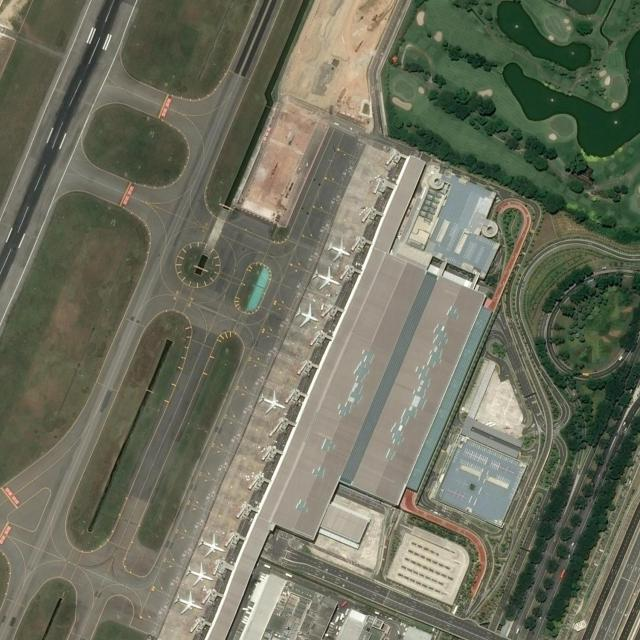Aircraft: (174, 591, 204, 616), (185, 563, 215, 588), (259, 390, 287, 416), (258, 390, 286, 415), (199, 534, 227, 559), (313, 267, 342, 291), (177, 591, 203, 615), (188, 563, 214, 587), (296, 303, 320, 329), (295, 304, 321, 328), (315, 267, 343, 289), (201, 534, 225, 558), (327, 239, 351, 262), (327, 240, 351, 262)
